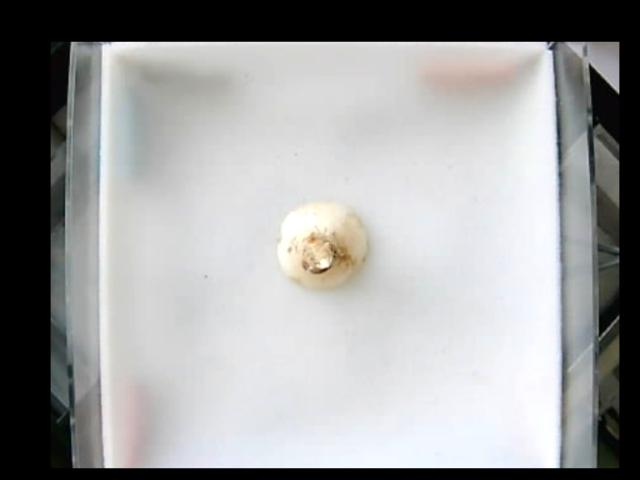Mooli: (278, 201, 371, 289)
